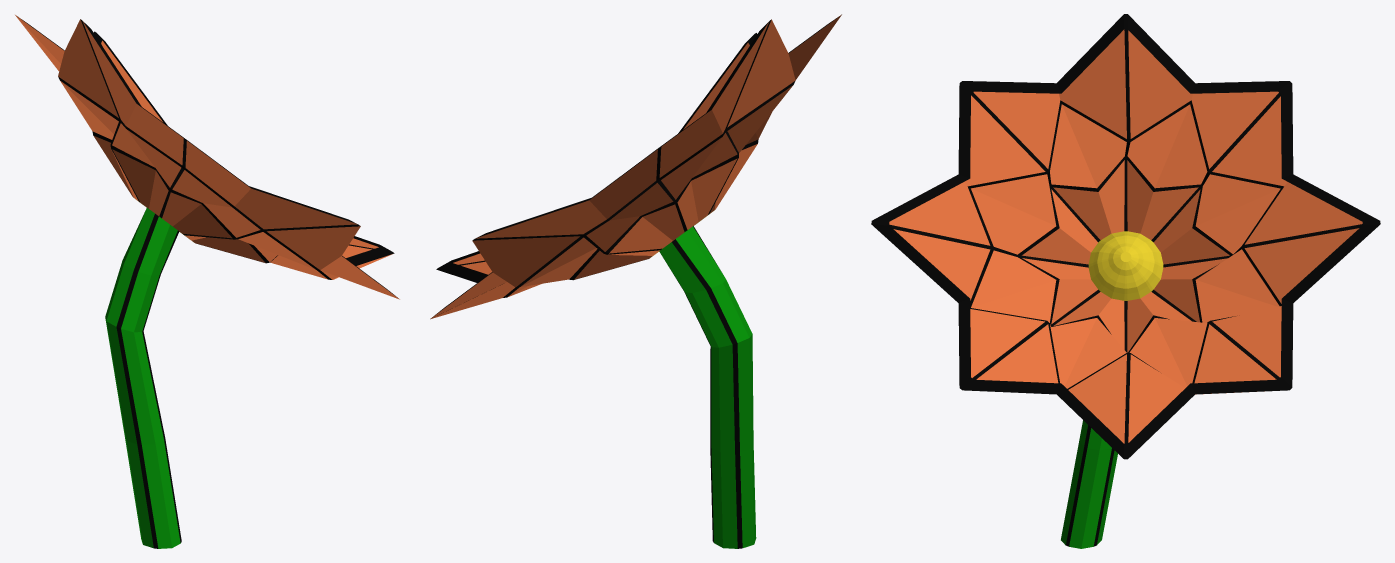
Rendered from CardboardFlower02.fbx.
The picture shows the model from 3 angles, left to right: view 1: azimuth 30°, elevation 25°; view 2: azimuth 150°, elevation 25°; view 3: azimuth 270°, elevation 25°; orthographic projection. The views are drawn at different scales.
Visible parts, largest first — view 1: Circle.048; view 2: Circle.048; view 3: Circle.048.
Boxes of the visible parts, bbox=[...] form: Circle.048: bbox=[15, 15, 399, 548]; Circle.048: bbox=[430, 14, 841, 548]; Circle.048: bbox=[871, 14, 1380, 548].
Size of the model in its own units: 107 by 169 by 156.
